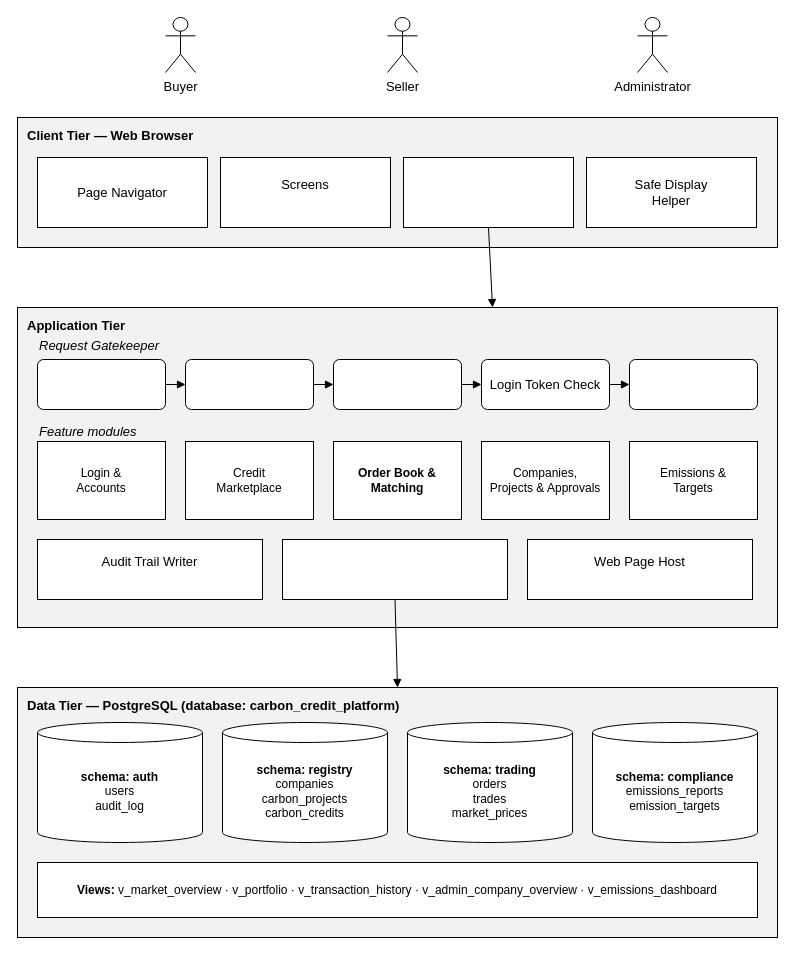
This 795x955 diagram has some shape labels left out. Each missing label, with the centre of its shape:
"CORS" goes at (x=101, y=384).
"Database Gateway" goes at (x=395, y=569).
"Rate Limiter" goes at (x=249, y=384).
"Read Request Body" goes at (x=397, y=384).
"Role Check" goes at (x=693, y=384).
"Server Connector" goes at (x=488, y=192).
